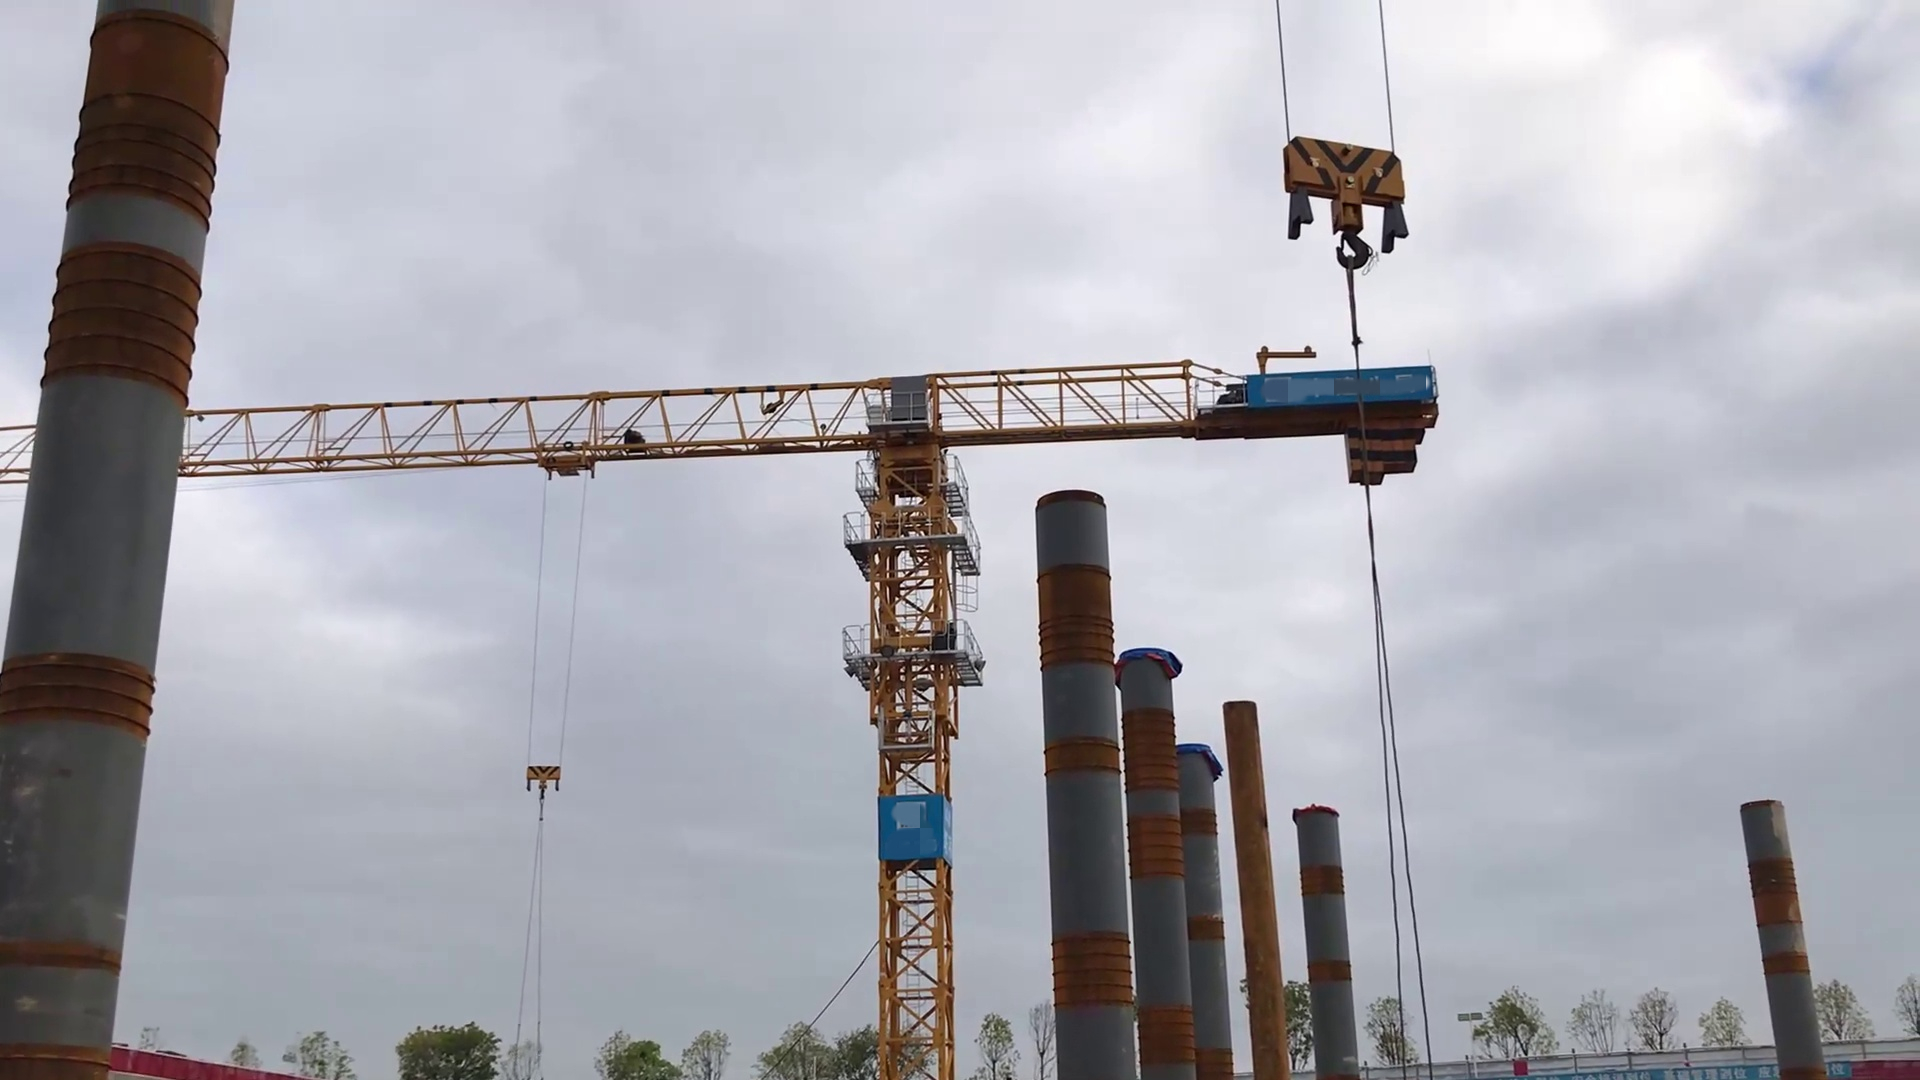hook: (1269, 128, 1418, 280), (522, 761, 564, 803)
